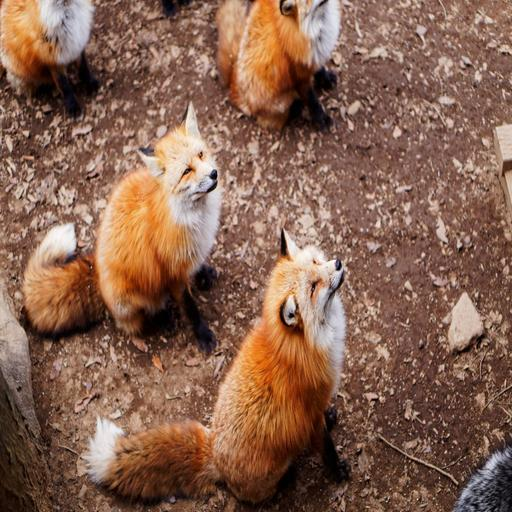Fox: (80, 225, 380, 510), (25, 102, 235, 352), (220, 0, 366, 131), (2, 0, 110, 113)
